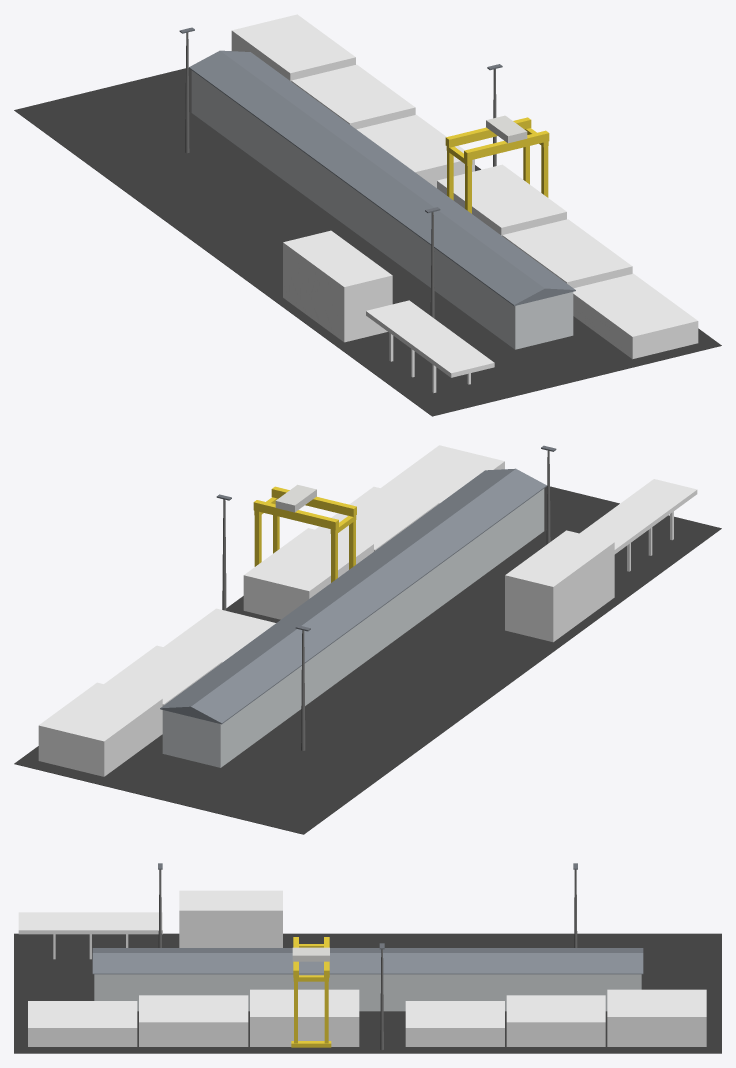
The model's file is top-prebuilt_far.fbx.
3 renders of one model, top to bottom at view 1: azimuth 30°, elevation 25°; view 2: azimuth 150°, elevation 25°; view 3: azimuth 270°, elevation 25°, orthographic. The views are drawn at different scales.
Parts seen in each view (by area): view 1: a404_0_top-prebuilt_far; view 2: a404_0_top-prebuilt_far; view 3: a404_0_top-prebuilt_far.
Part boxes in pixels (left/top/right/bottom): a404_0_top-prebuilt_far: left=14, top=14, right=721, bottom=416; a404_0_top-prebuilt_far: left=14, top=445, right=721, bottom=834; a404_0_top-prebuilt_far: left=14, top=863, right=721, bottom=1053.
Bounding box in the file's own units: 60 × 24.25 × 150.
